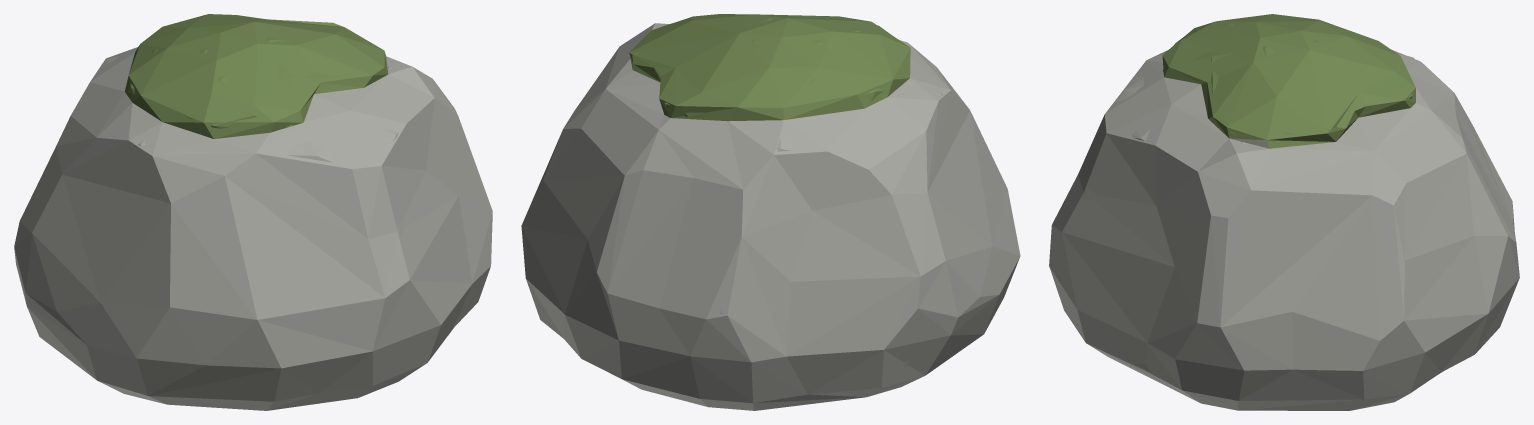
The model's file is ENV_09_ROCK_game.glb.
The picture shows the model from 3 angles, left to right: view 1: azimuth 30°, elevation 25°; view 2: azimuth 150°, elevation 25°; view 3: azimuth 270°, elevation 25°; orthographic projection. The views are drawn at different scales.
Parts seen in each view (by area): view 1: ENV_09_ROCK; view 2: ENV_09_ROCK; view 3: ENV_09_ROCK.
Boxes of the visible parts, x1,y1,x2,y2 form: ENV_09_ROCK: (14,14,492,410); ENV_09_ROCK: (521,14,1020,410); ENV_09_ROCK: (1049,14,1519,410).
Size of the model in its own units: 1.84 by 1.4 by 1.86.
